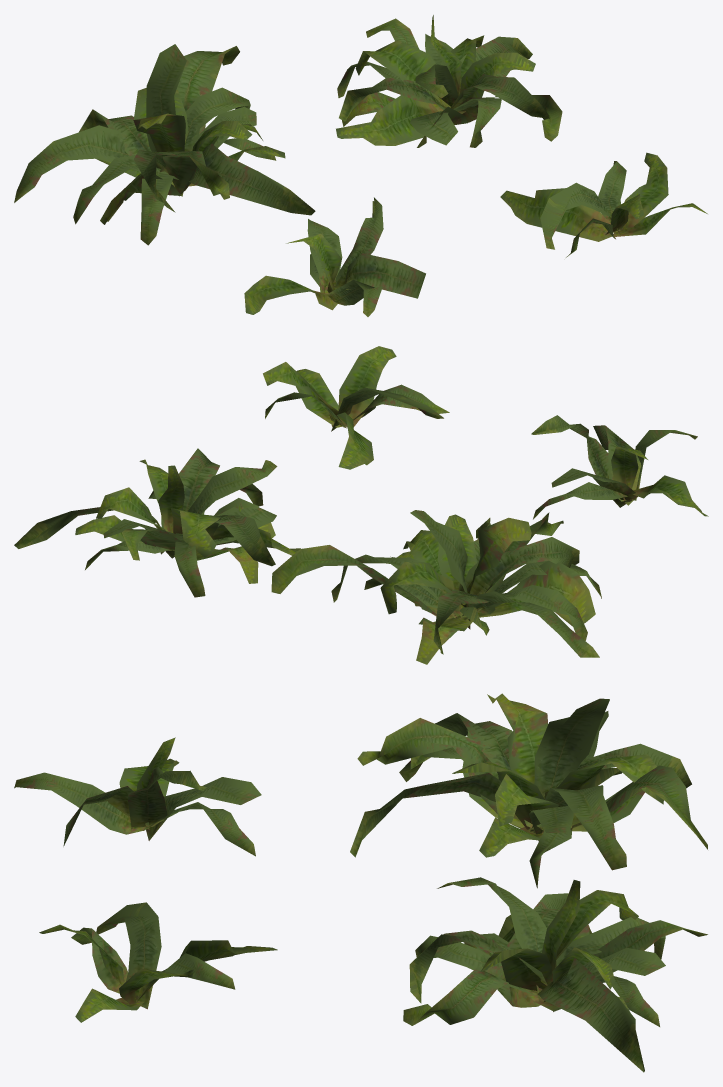
The model's file is fern_02.glb.
The picture shows the model from 3 angles, top to bottom: view 1: azimuth 30°, elevation 25°; view 2: azimuth 150°, elevation 25°; view 3: azimuth 270°, elevation 25°; orthographic projection. The views are drawn at different scales.
Visible parts, largest first — view 1: fern_02_b; view 2: fern_02_b; view 3: fern_02_b.
Part boxes in pixels (x1=…): fern_02_b: x1=14, y1=15, x2=707, y2=316; fern_02_b: x1=14, y1=346, x2=708, y2=664; fern_02_b: x1=14, y1=693, x2=707, y2=1072.
Size of the model in its own units: 1.97 by 0.4277 by 1.72.
1 material, 1 textured.
